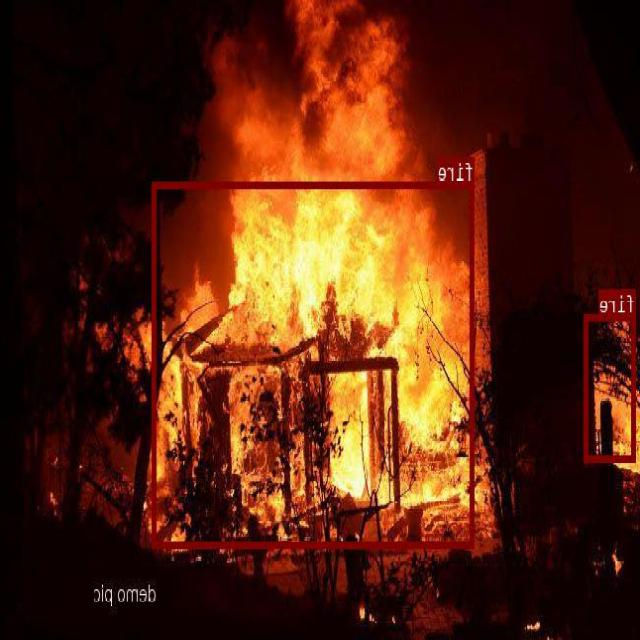fire: (153, 181, 475, 547), (585, 314, 637, 461)
